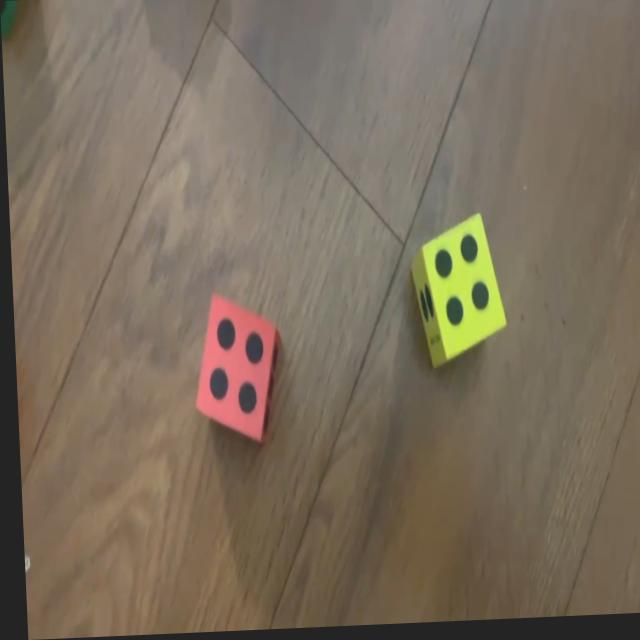cube: (187, 295, 281, 442)
